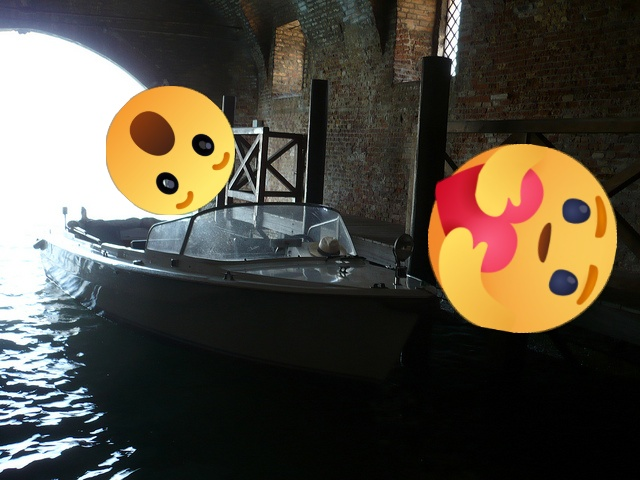care: (428, 144, 617, 333)
wow: (106, 86, 235, 215)
